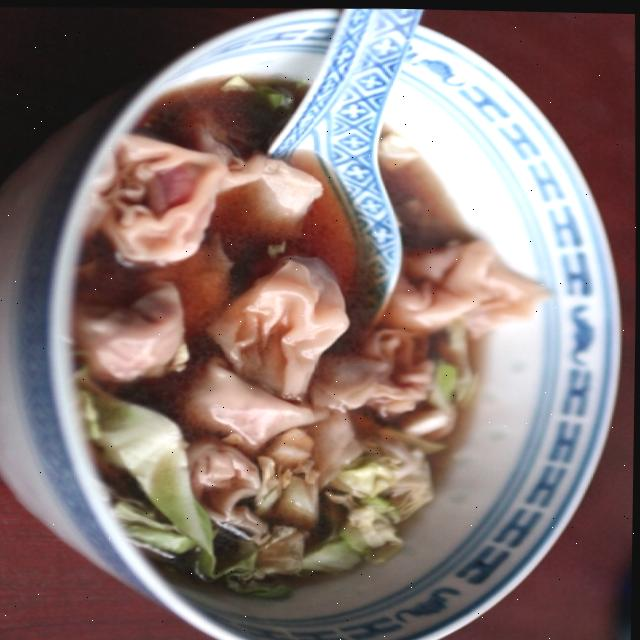汤锅炖物: (31, 39, 621, 639)
